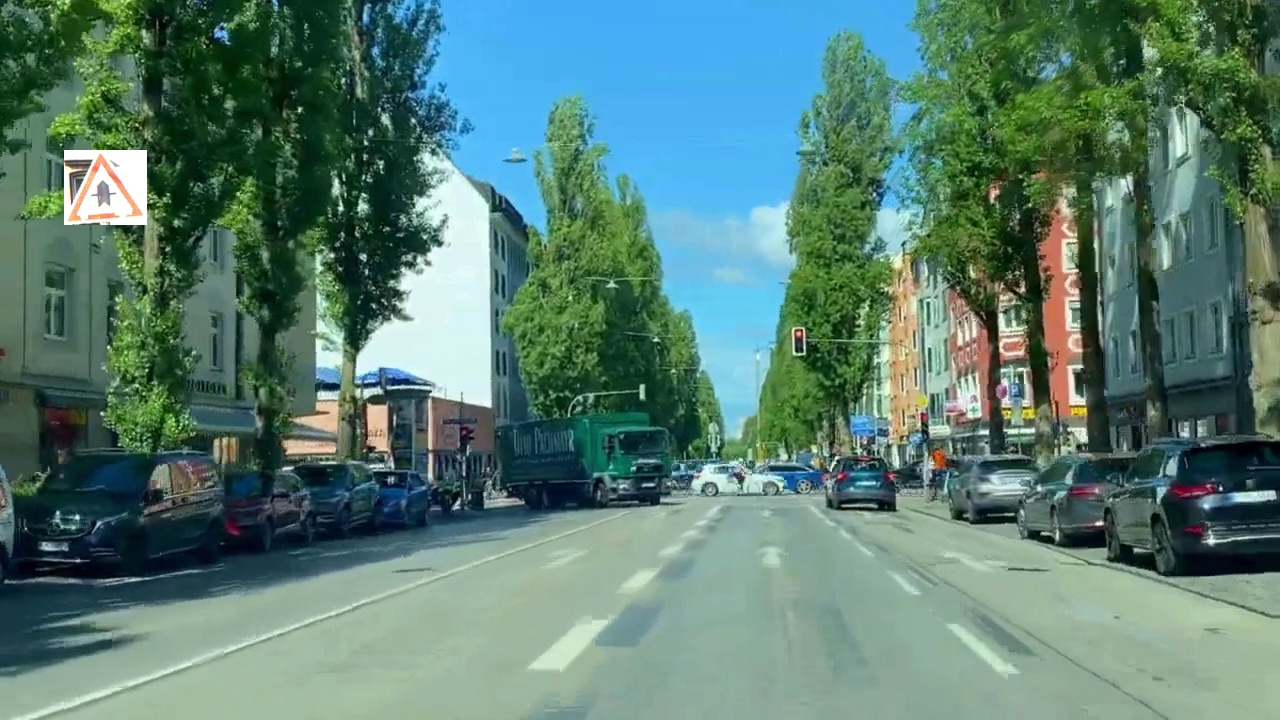Right-of-way: (64, 150, 147, 225)
